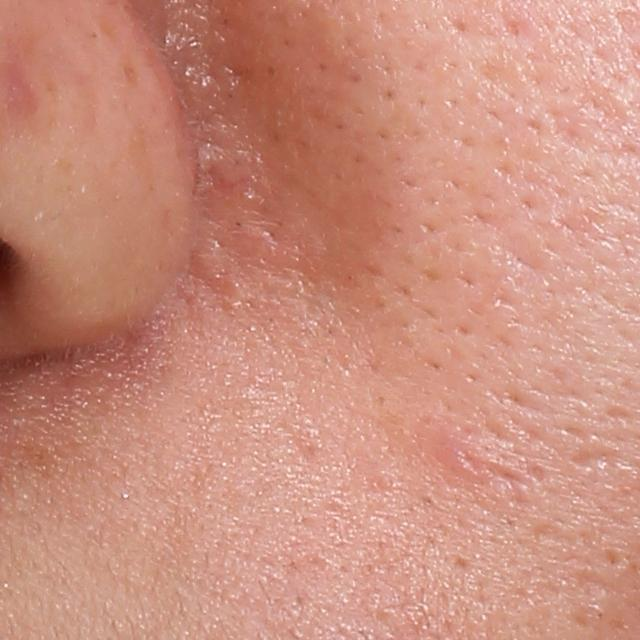atrophic_scar: (539, 103, 600, 152), (566, 445, 620, 473)
